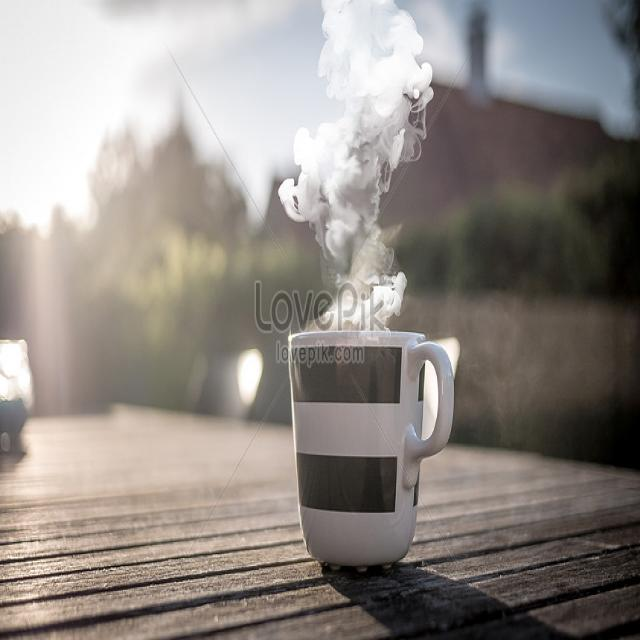cup: (272, 301, 453, 571)
